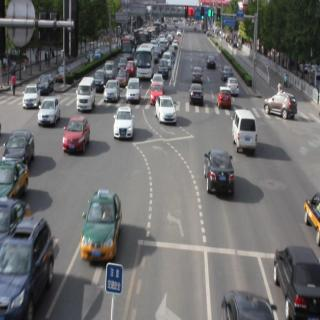Car: (6, 212, 51, 310), (268, 242, 319, 320), (81, 188, 122, 252), (202, 151, 239, 205), (0, 148, 34, 203), (265, 92, 301, 130), (4, 124, 36, 163), (234, 114, 260, 154), (152, 95, 178, 134), (74, 76, 101, 108), (64, 114, 85, 152), (113, 108, 134, 143), (22, 80, 41, 114), (149, 71, 165, 106), (38, 68, 57, 95), (217, 88, 235, 114), (42, 92, 57, 122), (140, 41, 152, 78), (189, 79, 204, 107), (227, 70, 241, 100), (105, 77, 120, 103), (103, 56, 118, 82), (128, 80, 144, 102), (203, 47, 218, 70), (192, 59, 204, 84)
